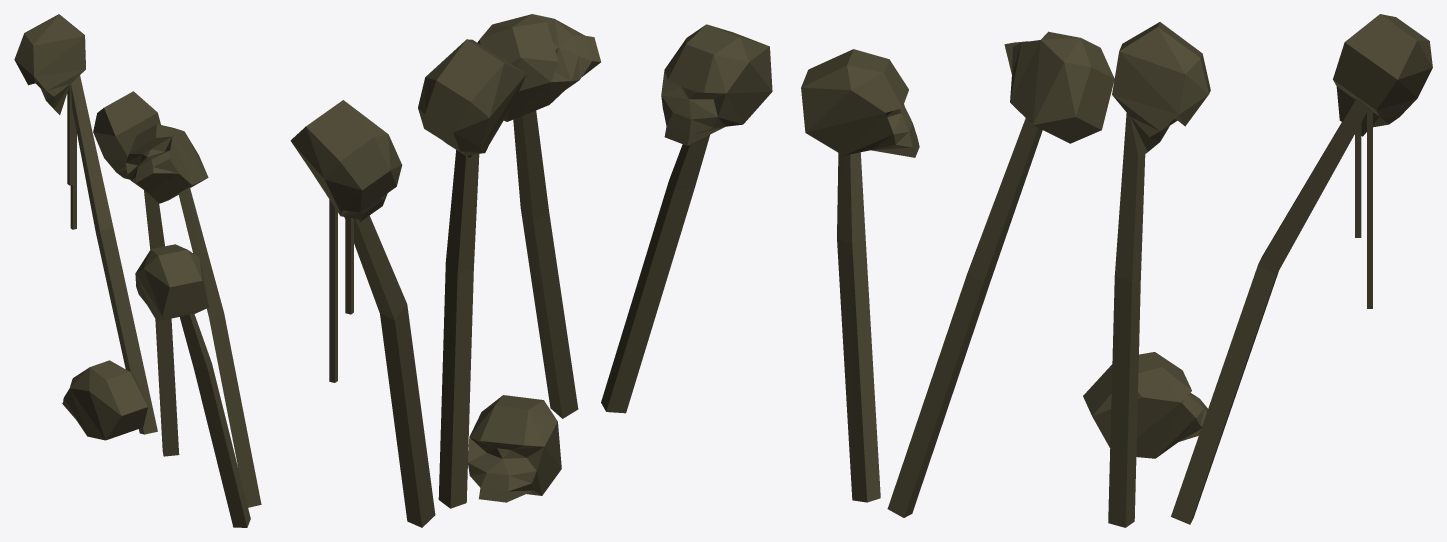
The model's file is ORC_SKULLSONSTAFF.OBJ.
3 views of the same model, side by side, from view 1: azimuth 30°, elevation 25°; view 2: azimuth 150°, elevation 25°; view 3: azimuth 270°, elevation 25° (orthographic). The views are drawn at different scales.
Visible parts, largest first — view 1: ORC_SKULLSONSTAFF; view 2: ORC_SKULLSONSTAFF; view 3: ORC_SKULLSONSTAFF.
Boxes of the visible parts, box(x1,y1,x2,y2) form: ORC_SKULLSONSTAFF: box(14, 14, 261, 527); ORC_SKULLSONSTAFF: box(290, 14, 772, 527); ORC_SKULLSONSTAFF: box(801, 14, 1432, 527).
Size of the model in its own units: 0.3902 by 0.9886 by 1.13.
